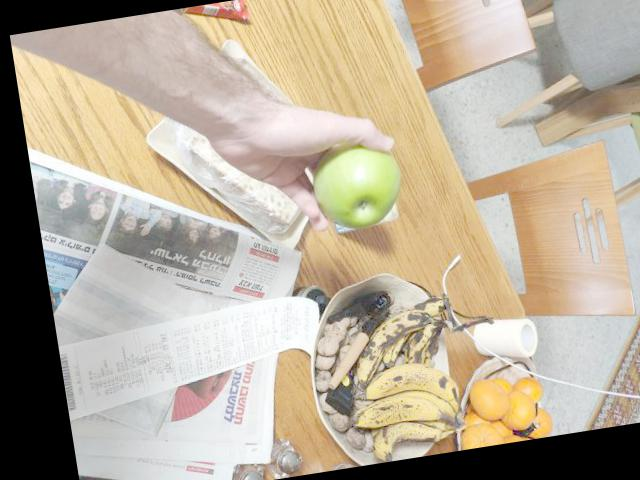apple: (300, 130, 410, 229)
